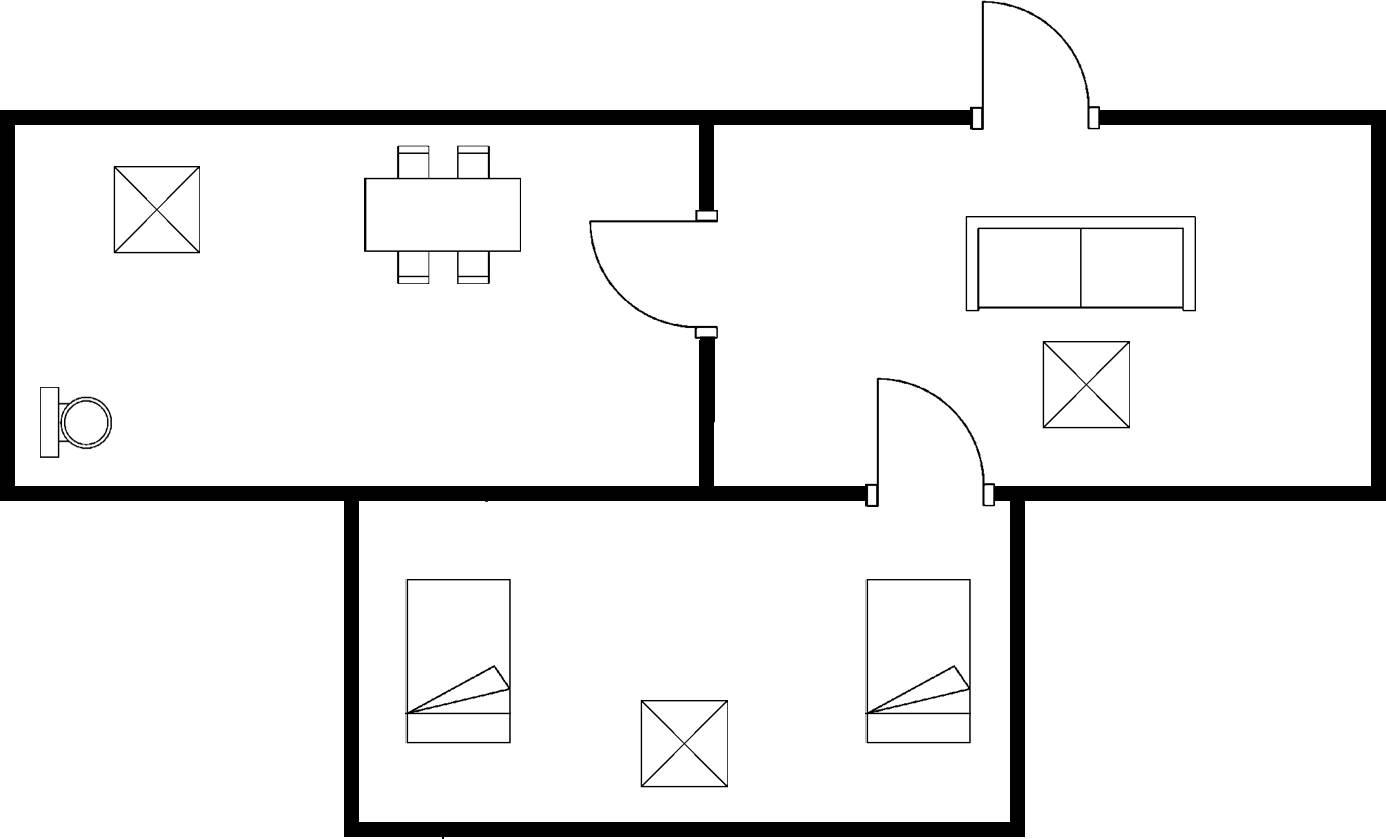bed: (858, 571, 976, 748), (398, 572, 515, 747)
dining_table: (357, 138, 528, 290)
sofa: (958, 210, 1203, 315)
toilet: (35, 380, 117, 463)
